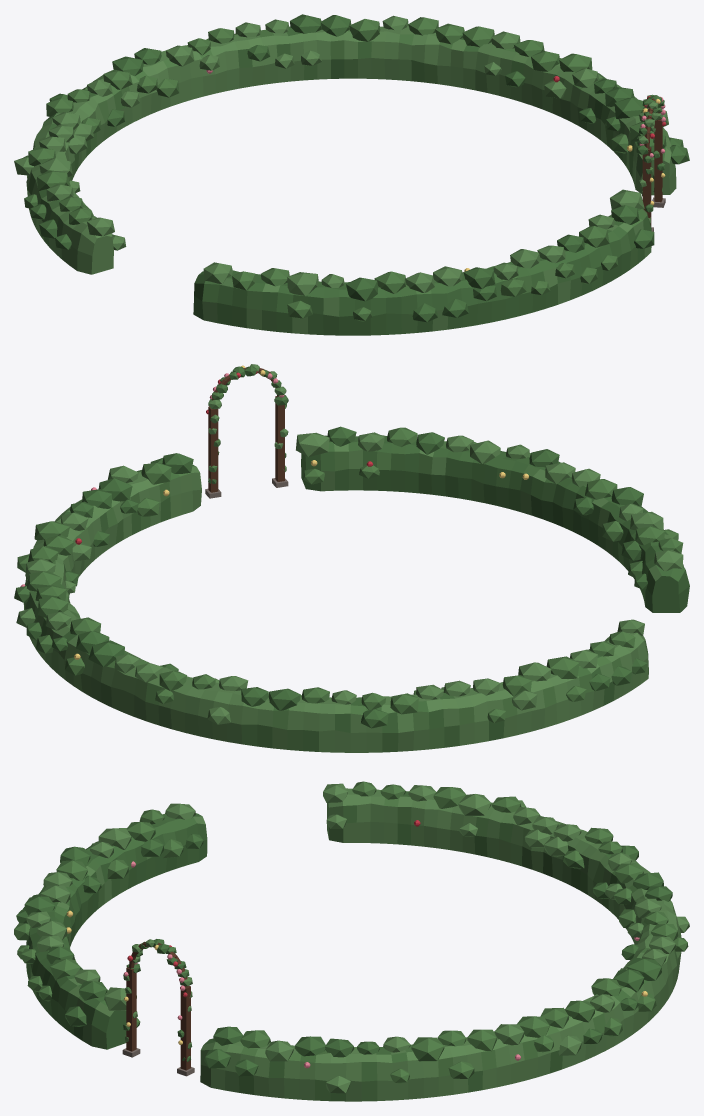
File: garden-iFD0puy8.glb
The picture shows the model from 3 angles, top to bottom: view 1: azimuth 30°, elevation 25°; view 2: azimuth 150°, elevation 25°; view 3: azimuth 270°, elevation 25°; orthographic projection. The views are drawn at different scales.
Parts seen in each view (by area): view 1: garden, garden_arch; view 2: garden, garden_arch; view 3: garden, garden_arch.
Boxes of the visible parts, x1,y1,x2,y2 form: garden: [14, 14, 689, 335]; garden_arch: [636, 94, 666, 231]; garden: [14, 426, 689, 752]; garden_arch: [205, 364, 288, 498]; garden: [14, 781, 689, 1101]; garden_arch: [122, 939, 194, 1076].
Bounding box in the file's own units: 16.38 × 3.27 × 16.35.
